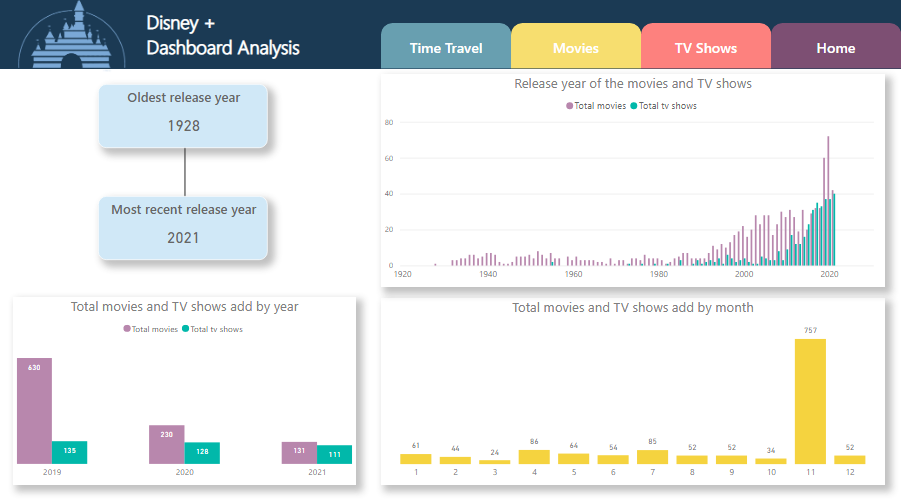

The page's visual inventory and layout, read from the dashboard file:
{"tool":"powerbi","page":{"name":"Time Travel","canvas":[1280,720],"ordinal":1},"visuals":[{"type":"shape","box":[0,102.2,1279.5,617.8],"z":0},{"type":"actionButton","box":[725.7,36.9,184.6,65.3],"z":1000},{"type":"actionButton","box":[910.3,36.9,184.6,65.3],"z":2000},{"type":"actionButton","box":[1094.9,36.9,184.6,65.3],"z":3000},{"type":"clusteredColumnChart","title":"Total movies and TV shows add by year","fields":{"Y":["medidas.Total movies","medidas.Total tv shows"],"Category":["disney_plus_titles.date_added.Variation.Hierarquia de datas.Ano","disney_plus_titles.date_added.Variation.Hierarquia de datas.Trimestre","disney_plus_titles.date_added.Variation.Hierarquia de datas.Mês","disney_plus_titles.date_added.Variation.Hierarquia de datas.Dia"]},"box":[18.5,426,487.1,267],"z":4000},{"type":"clusteredColumnChart","title":"Release year of the movies and TV shows","fields":{"Y":["medidas.Total movies","medidas.Total tv shows"],"Category":["disney_plus_titles.release_year"]},"box":[541.1,109.3,715.7,302.5],"z":5000},{"type":"clusteredColumnChart","title":"Total movies and TV shows add by month","fields":{"Y":["CountNonNull(disney_plus_titles.show_id)"],"Category":["disney_plus_titles.month"]},"box":[541.1,427.5,715.7,265.6],"z":6000},{"type":"textbox","box":[203.1,11.4,259.9,89.5],"z":7000,"group":"g1"},{"type":"actionButton","box":[541.1,36.9,184.6,65.3],"z":7000},{"type":"shape","box":[166.2,181.8,193.1,157.6],"z":8000},{"type":"card","title":"Most recent release year","fields":{"Values":["Max(disney_plus_titles.release_year)"]},"box":[139.2,282.6,241.4,90.9],"z":9000},{"type":"card","title":"Oldest release year","fields":{"Values":["Min(disney_plus_titles.release_year)"]},"box":[139.2,123.6,241.4,90.9],"z":10000},{"type":"group","id":"g1","title":"Grupo 1","box":[18.5,0,444.5,113.6],"z":10001},{"type":"image","box":[18.5,0,167.6,113.6],"z":13000,"group":"g1"}]}

Visuals, with their boxes in screenshot pixels (x1, y1, x2, y2), scaled from the page's 1280x720 canvas onto the 901x500 screenshot:
shape: pyautogui.locateOnScreen(0, 71, 900, 499)
actionButton: pyautogui.locateOnScreen(511, 26, 641, 71)
actionButton: pyautogui.locateOnScreen(641, 26, 771, 71)
actionButton: pyautogui.locateOnScreen(771, 26, 900, 71)
"Total movies and TV shows add by year" clusteredColumnChart: pyautogui.locateOnScreen(13, 296, 356, 481)
"Release year of the movies and TV shows" clusteredColumnChart: pyautogui.locateOnScreen(381, 76, 885, 286)
"Total movies and TV shows add by month" clusteredColumnChart: pyautogui.locateOnScreen(381, 297, 885, 481)
textbox: pyautogui.locateOnScreen(143, 8, 326, 70)
actionButton: pyautogui.locateOnScreen(381, 26, 511, 71)
shape: pyautogui.locateOnScreen(117, 126, 253, 236)
"Most recent release year" card: pyautogui.locateOnScreen(98, 196, 268, 259)
"Oldest release year" card: pyautogui.locateOnScreen(98, 86, 268, 149)
"Grupo 1" group: pyautogui.locateOnScreen(13, 0, 326, 79)
image: pyautogui.locateOnScreen(13, 0, 131, 79)
